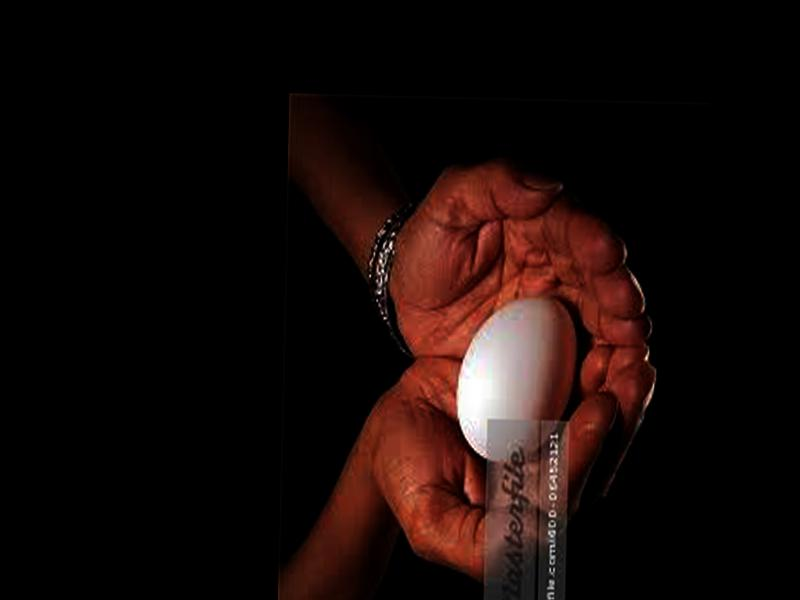Eggs: (457, 293, 580, 457)
